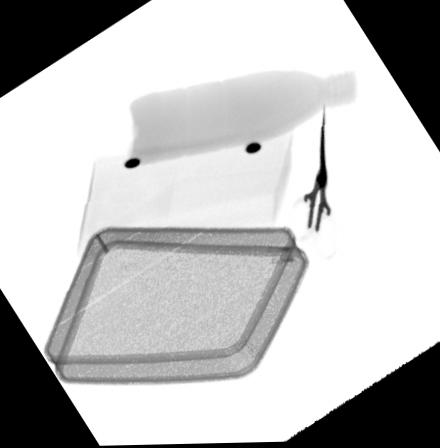Scissors: (276, 103, 343, 257)
